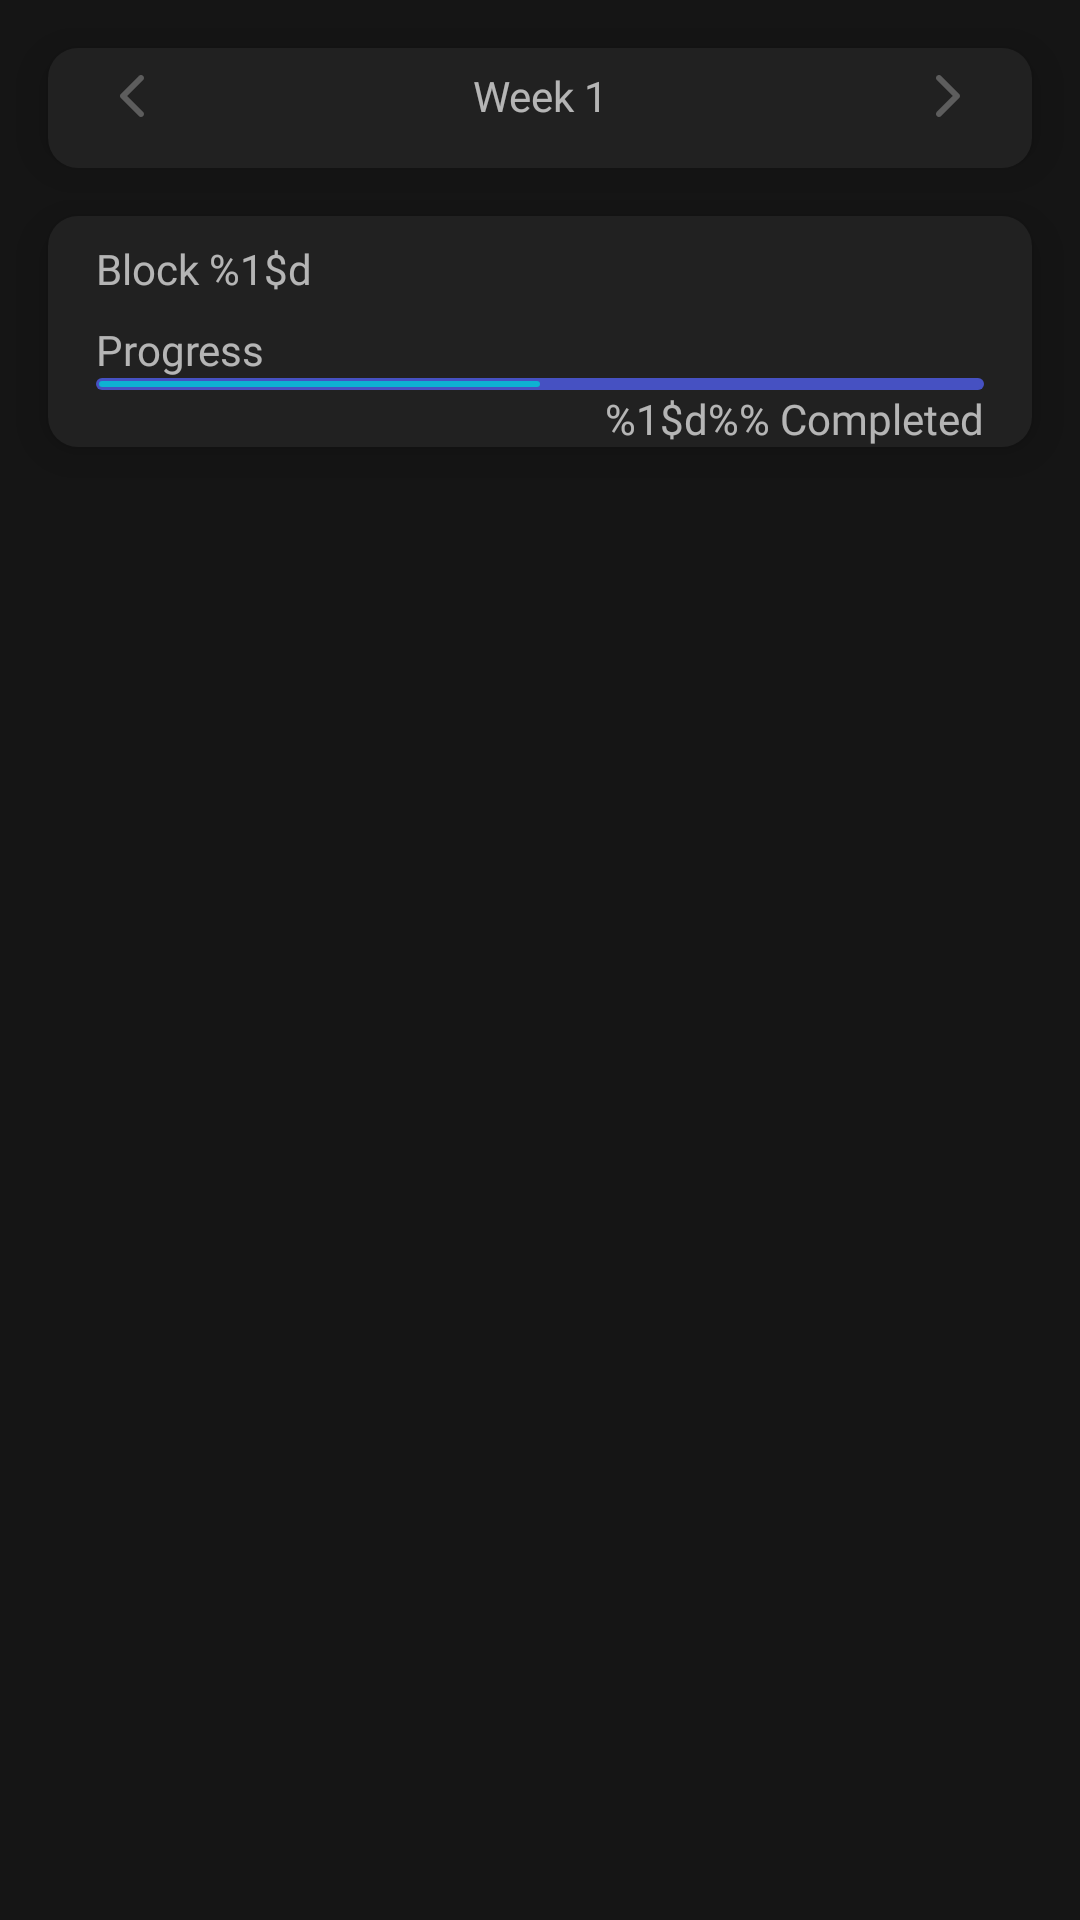

Icons on this 1080x1920 Android screen, each with its box as (x1, y1, x2, y2):
chevron left: (120, 75, 144, 117)
chevron right: (936, 75, 960, 117)
